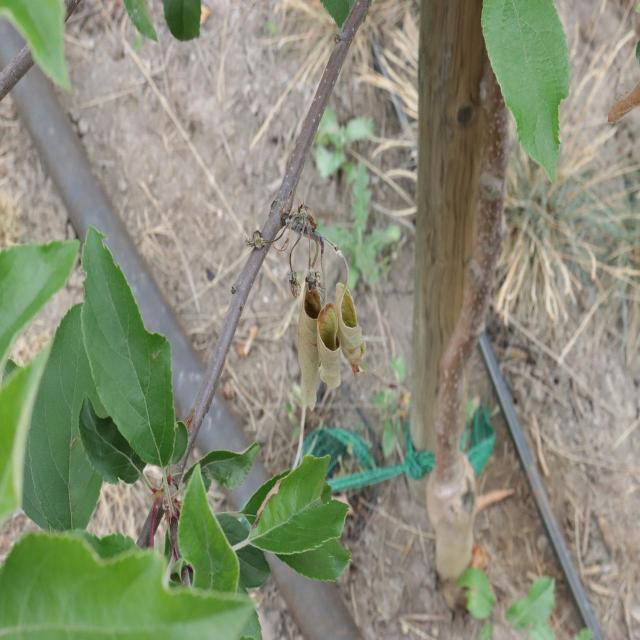-FireBlight-: (288, 216, 376, 400)
